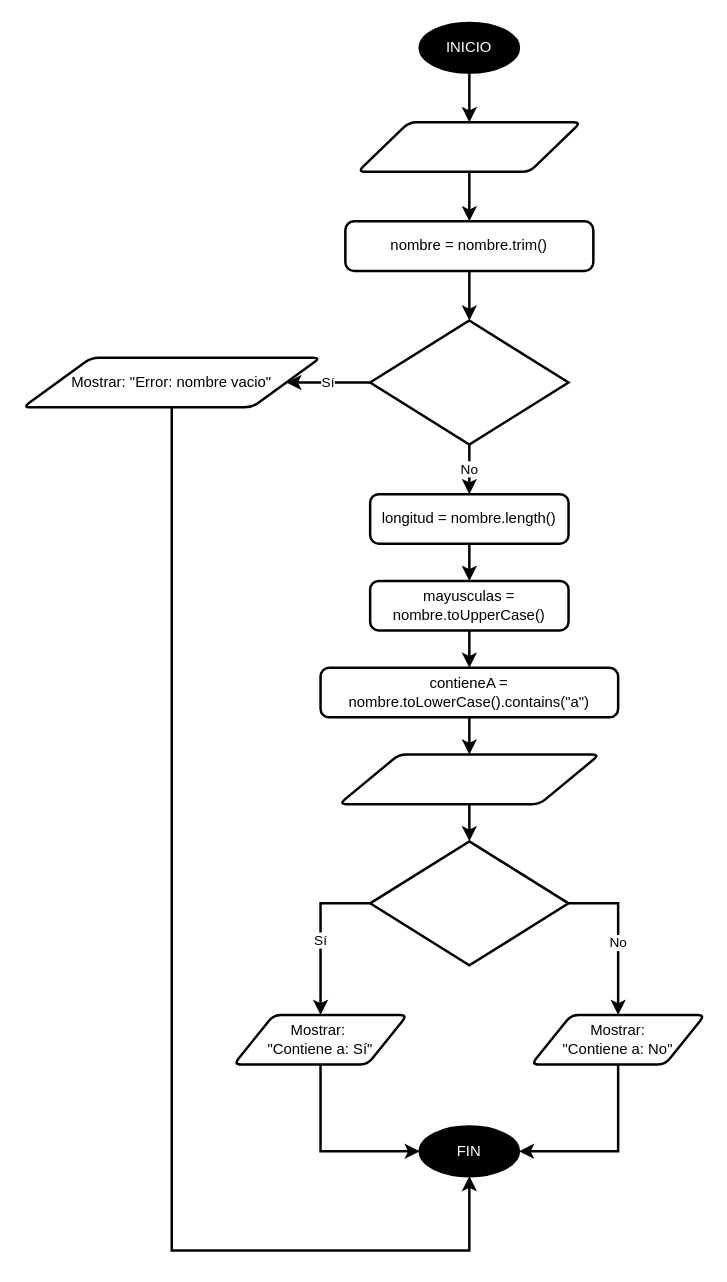
The diagram is 727 pixels wide and 1282 high, and some of its shapes have lost their labels. Here are the shapes that lost their labels. From the top down, the centre of each, then its label:
pixel 469 146: Leer nombre completo
pixel 468 382: ¿nombre.isEmpty()?
pixel 468 779: Mostrar nombre en mayúsculas y longitud
pixel 468 902: ¿contieneA?
